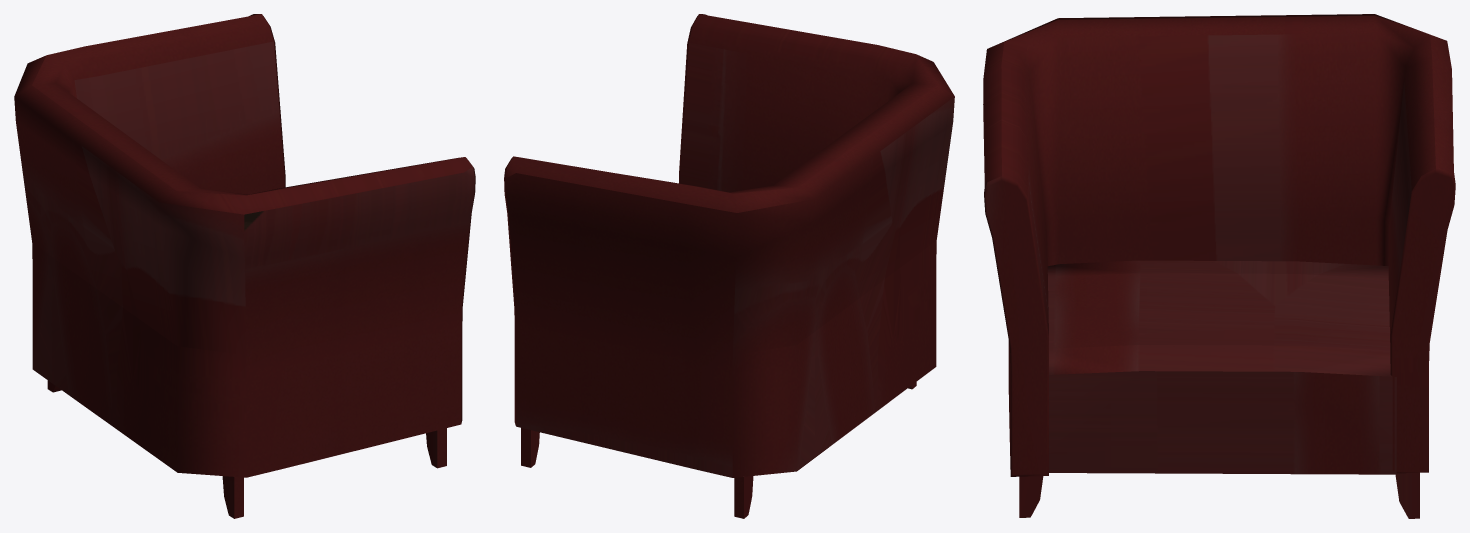
The model's file is Sofa_Small.fbx.
3 views of the same model, side by side, from view 1: azimuth 30°, elevation 25°; view 2: azimuth 150°, elevation 25°; view 3: azimuth 270°, elevation 25° (orthographic). The views are drawn at different scales.
Visible parts, largest first — view 1: Sofa_Big1; view 2: Sofa_Big1; view 3: Sofa_Big1.
Part boxes in pixels (x1,y1,x2,y2): Sofa_Big1: [14, 14, 475, 518]; Sofa_Big1: [504, 14, 954, 518]; Sofa_Big1: [983, 14, 1455, 518].
Size of the model in its own units: 76.26 by 83.41 by 97.66.
1 material, 1 textured.
